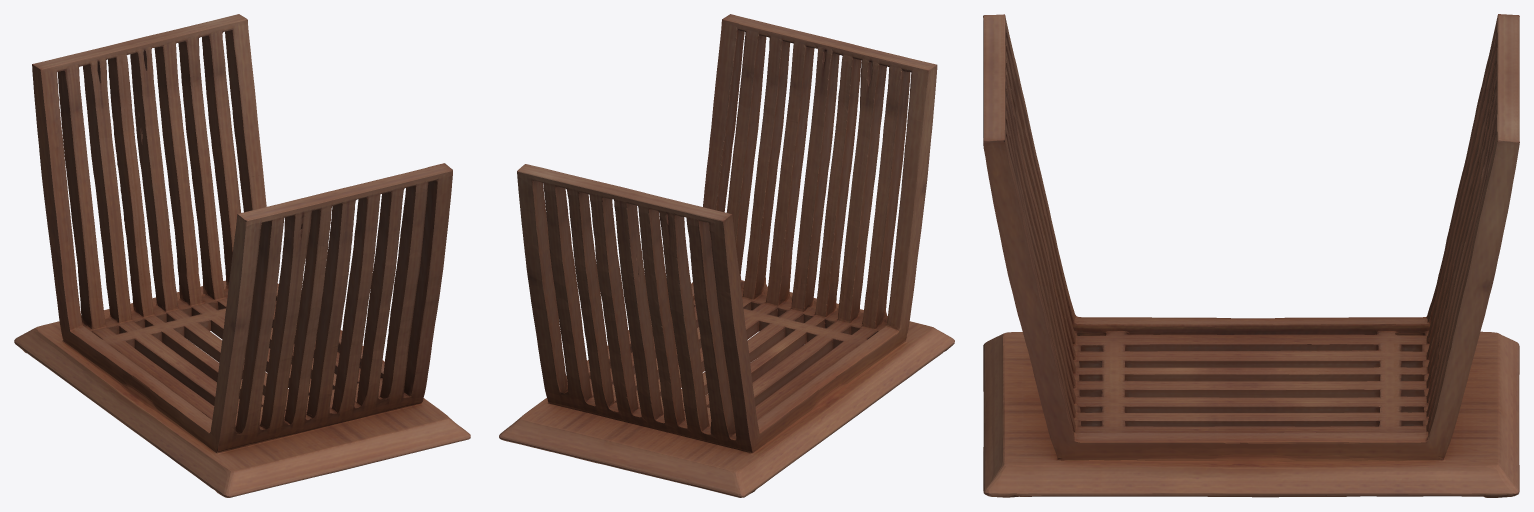
3 renders of one model, left to right at view 1: azimuth 30°, elevation 25°; view 2: azimuth 150°, elevation 25°; view 3: azimuth 270°, elevation 25°, orthographic. The views are drawn at different scales.
Parts seen in each view (by area): view 1: world; view 2: world; view 3: world.
Boxes of the visible parts, x1,y1,x2,y2 form: world: (14,14,470,497); world: (499,14,954,497); world: (983,14,1519,497).
Size of the model in its own units: 0.6681 by 0.7137 by 1.
1 material, 1 textured.
